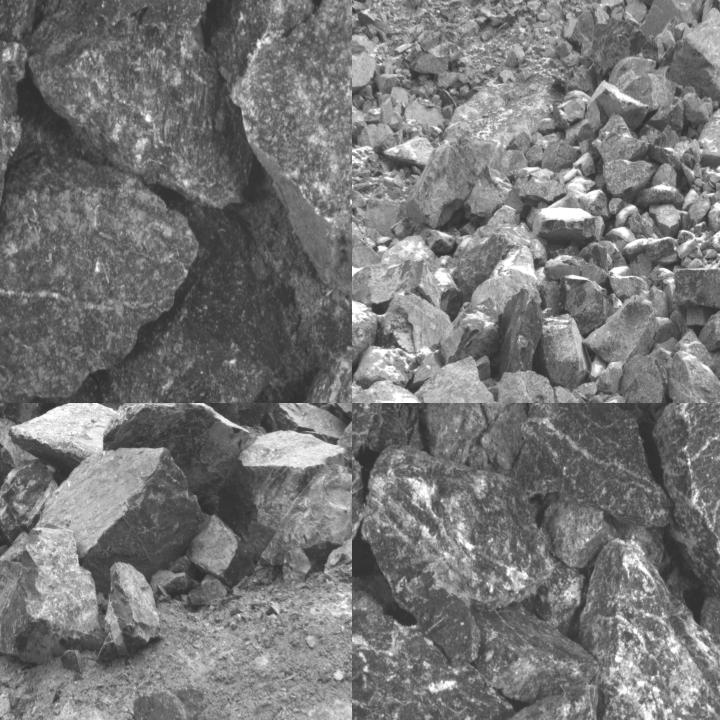stone: (0, 154, 200, 402), (364, 446, 584, 660), (29, 0, 251, 209), (231, 0, 351, 302), (105, 224, 292, 402), (578, 539, 719, 719), (352, 570, 515, 719), (38, 448, 206, 588), (508, 403, 674, 524), (103, 403, 251, 513), (238, 429, 346, 563), (655, 403, 719, 606), (472, 601, 600, 701), (0, 531, 97, 660), (210, 0, 317, 92), (259, 464, 351, 570), (404, 134, 500, 228), (0, 20, 29, 277), (8, 403, 115, 471), (97, 560, 161, 661), (542, 497, 618, 567), (582, 296, 659, 364), (0, 457, 60, 542), (663, 7, 719, 96), (378, 293, 452, 350), (540, 313, 594, 389), (193, 511, 248, 585), (414, 354, 496, 402), (437, 301, 500, 362), (352, 260, 423, 313), (0, 415, 41, 497), (560, 274, 612, 337), (355, 345, 432, 386), (273, 403, 345, 445), (593, 115, 648, 164), (668, 351, 719, 402), (621, 353, 670, 402), (352, 289, 379, 375), (533, 207, 598, 242), (602, 158, 653, 201), (623, 72, 676, 112), (672, 268, 719, 312), (335, 405, 351, 525), (519, 169, 567, 207), (498, 370, 555, 402), (352, 381, 436, 402), (464, 176, 503, 219), (213, 403, 287, 425), (384, 136, 434, 166), (542, 140, 581, 173), (699, 103, 719, 164), (352, 50, 377, 97), (352, 235, 382, 269), (699, 309, 719, 354), (352, 87, 366, 127)
